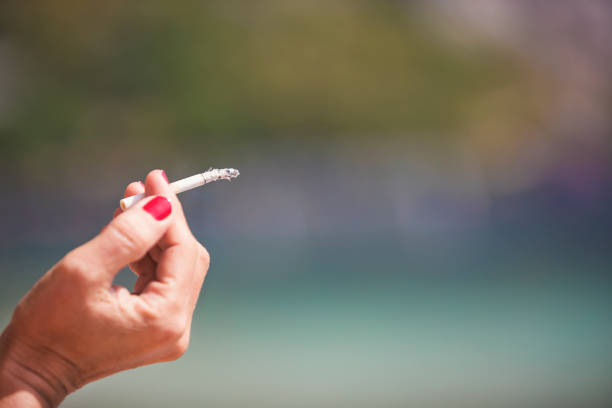cigarette: (120, 167, 240, 212)
